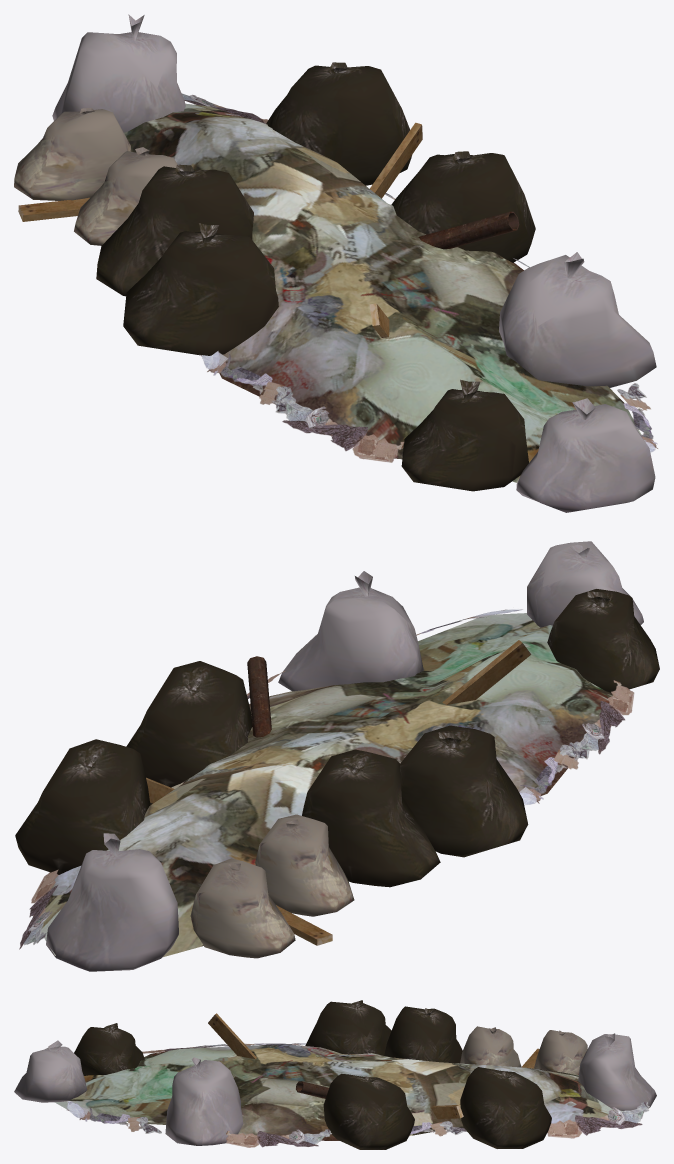
The model's file is trash_pile.glb.
3 renders of one model, top to bottom at view 1: azimuth 30°, elevation 25°; view 2: azimuth 150°, elevation 25°; view 3: azimuth 270°, elevation 25°, orthographic. The views are drawn at different scales.
Visible parts, largest first — view 1: prop; view 2: prop; view 3: prop.
Part boxes in pixels (x1,y1,x2,y2): prop: (14,14,657,512); prop: (15,541,659,971); prop: (14,1000,656,1149).
Bounding box in the file's own units: 1.23 × 0.4045 × 2.92.
1 material, 1 textured.
